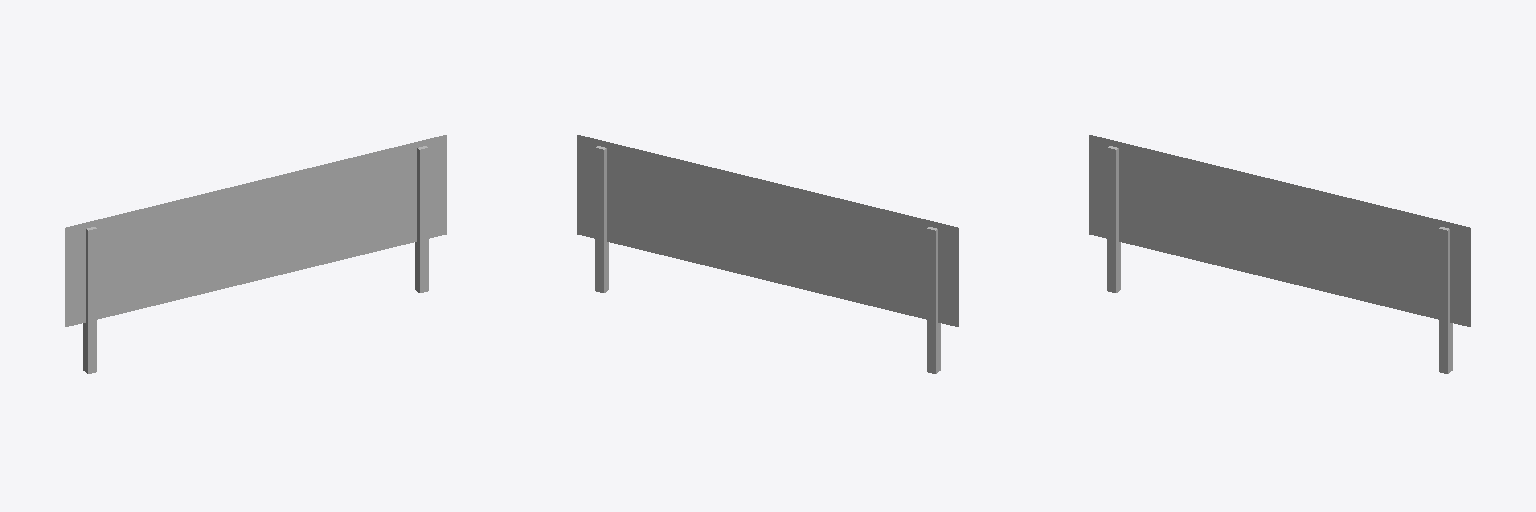
Rendered from rua_rede_volley.obj.
3 views of the same model, side by side, from view 1: azimuth 30°, elevation 25°; view 2: azimuth 150°, elevation 25°; view 3: azimuth 330°, elevation 25° (orthographic).
Parts seen in each view (by area): view 1: Block, Block1; view 2: Block, Block1; view 3: Block, Block1.
Part boxes in pixels (bbox=[...]): Block: bbox=[65, 135, 446, 326]; Block1: bbox=[83, 146, 428, 373]; Block: bbox=[577, 135, 958, 326]; Block1: bbox=[595, 146, 940, 373]; Block: bbox=[1089, 135, 1470, 326]; Block1: bbox=[1107, 146, 1452, 373].
Size of the model in its own units: 8 by 3 by 0.1875.